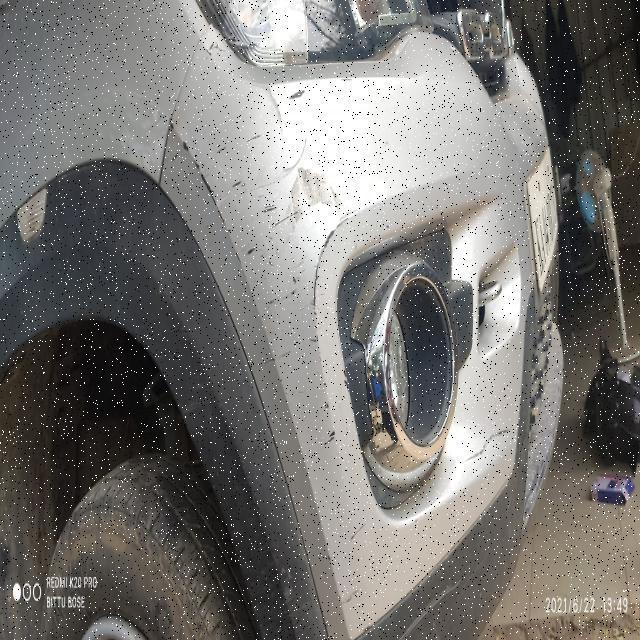car damage: (170, 42, 510, 639)
